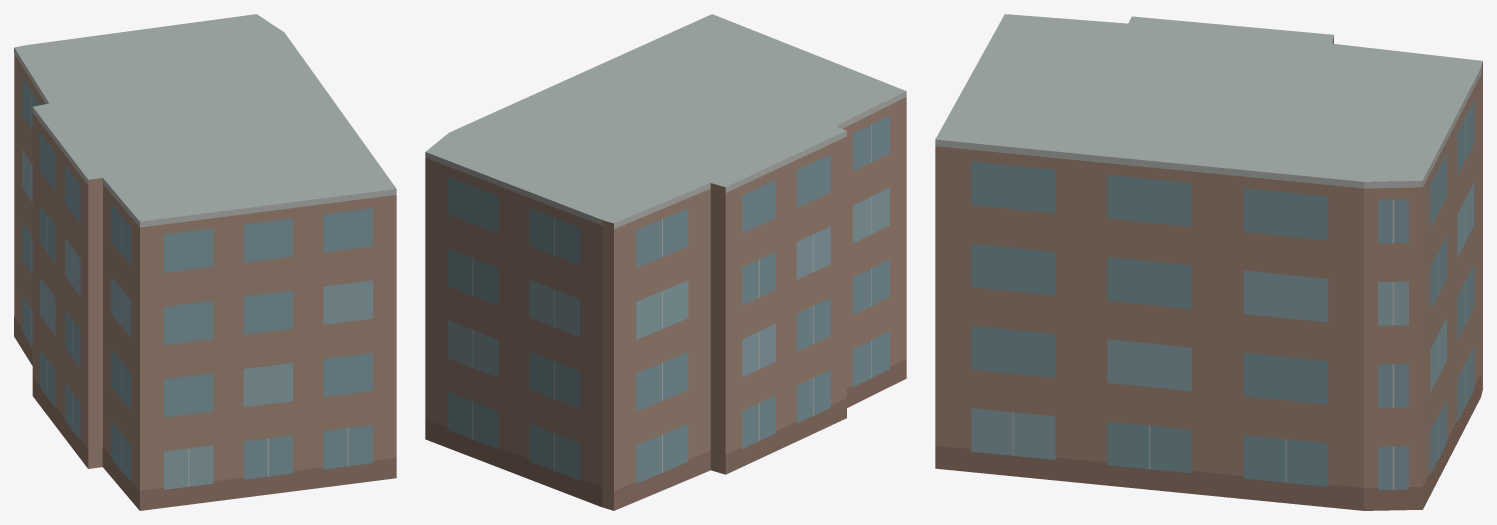
The model's file is survey-upis-32782282.glb.
3 renders of one model, left to right at view 1: azimuth 30°, elevation 25°; view 2: azimuth 150°, elevation 25°; view 3: azimuth 270°, elevation 25°, orthographic. The views are drawn at different scales.
Visible parts, largest first — view 1: survey-upis-32782282.tmp; view 2: survey-upis-32782282.tmp; view 3: survey-upis-32782282.tmp.
Boxes of the visible parts, x1,y1,x2,y2 form: survey-upis-32782282.tmp: (14,14,396,510); survey-upis-32782282.tmp: (425,14,906,510); survey-upis-32782282.tmp: (935,14,1482,510).
Size of the model in its own units: 13.37 by 12.2 by 18.42.
